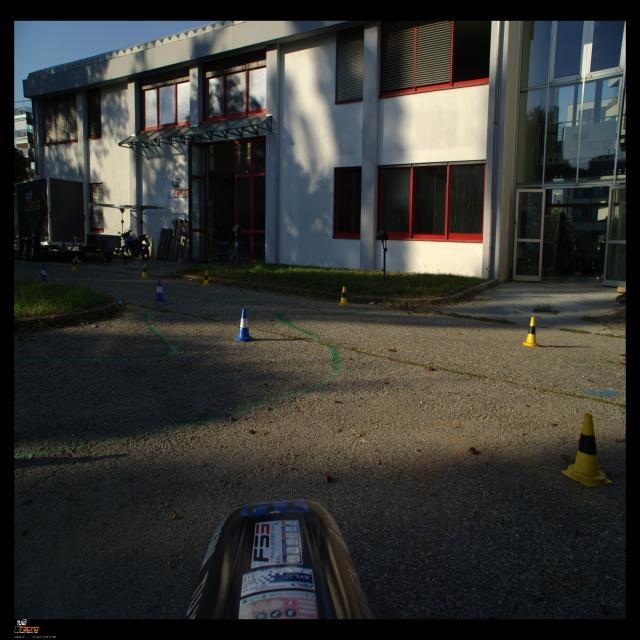blue_cone: (233, 308, 255, 342), (153, 280, 166, 301), (41, 265, 48, 282)
yellow_cone: (561, 413, 612, 487), (522, 317, 540, 347), (338, 287, 349, 306), (202, 270, 210, 286), (141, 264, 148, 278), (71, 258, 78, 272)
